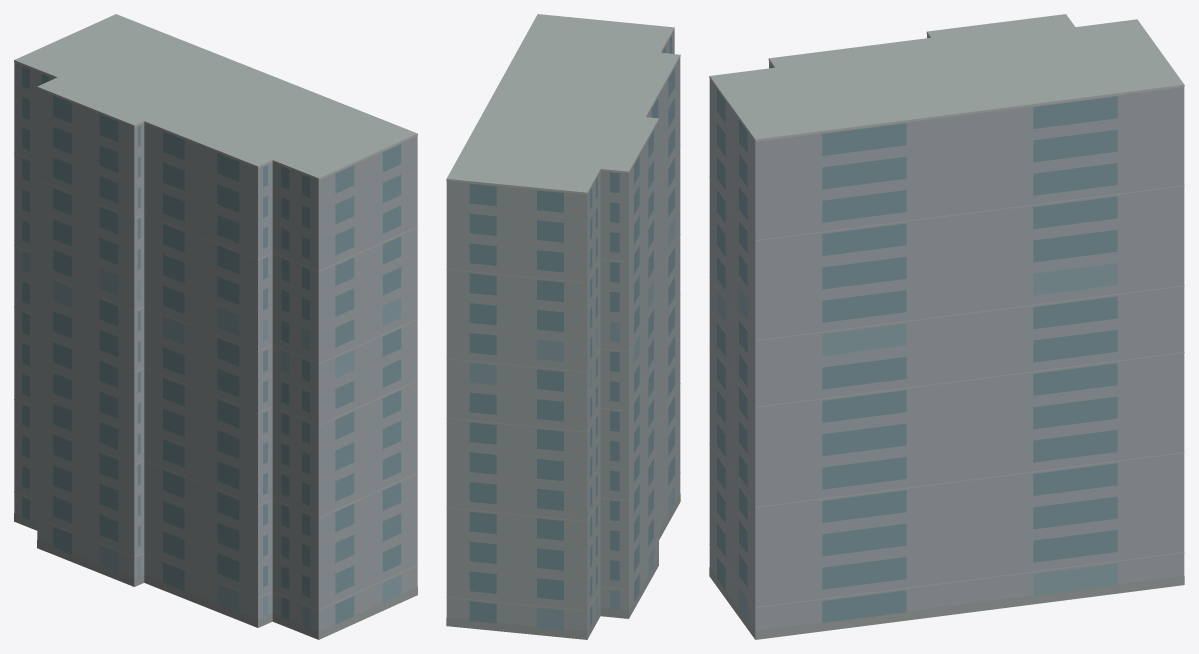
Rendered from survey-upis-33038925.glb.
3 renders of one model, left to right at view 1: azimuth 30°, elevation 25°; view 2: azimuth 150°, elevation 25°; view 3: azimuth 270°, elevation 25°, orthographic. The views are drawn at different scales.
Visible parts, largest first — view 1: survey-upis-33038925.tmp; view 2: survey-upis-33038925.tmp; view 3: survey-upis-33038925.tmp.
Boxes of the visible parts, x1,y1,x2,y2 form: survey-upis-33038925.tmp: [14, 14, 417, 639]; survey-upis-33038925.tmp: [446, 14, 680, 639]; survey-upis-33038925.tmp: [709, 14, 1184, 639].
Size of the model in its own units: 29.63 by 55 by 47.34.
